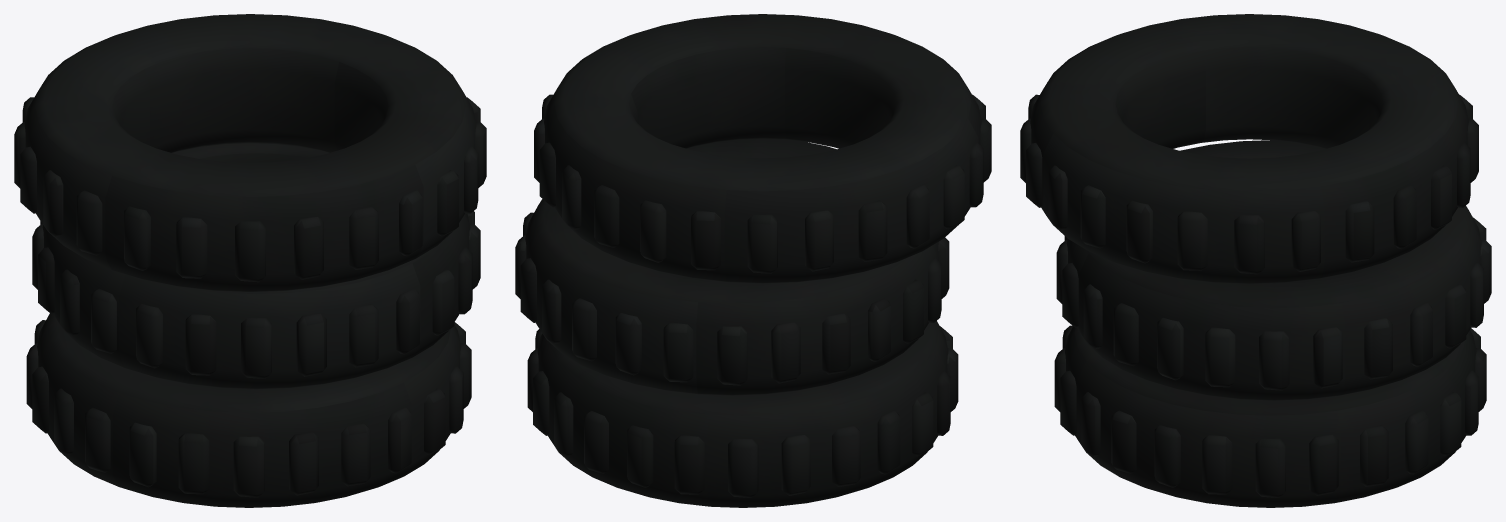
File: tires-17.glb
3 renders of one model, left to right at view 1: azimuth 30°, elevation 25°; view 2: azimuth 150°, elevation 25°; view 3: azimuth 270°, elevation 25°, orthographic. The views are drawn at different scales.
Visible parts, largest first — view 1: tires-17; view 2: tires-17; view 3: tires-17.
Boxes of the visible parts, left/top/right/bottom form: tires-17: left=14, top=14, right=486, bottom=507; tires-17: left=515, top=14, right=991, bottom=507; tires-17: left=1020, top=14, right=1491, bottom=507.
Size of the model in its own units: 0.5469 by 0.42 by 0.5513.
Materials: 1 (1 with a texture image).
